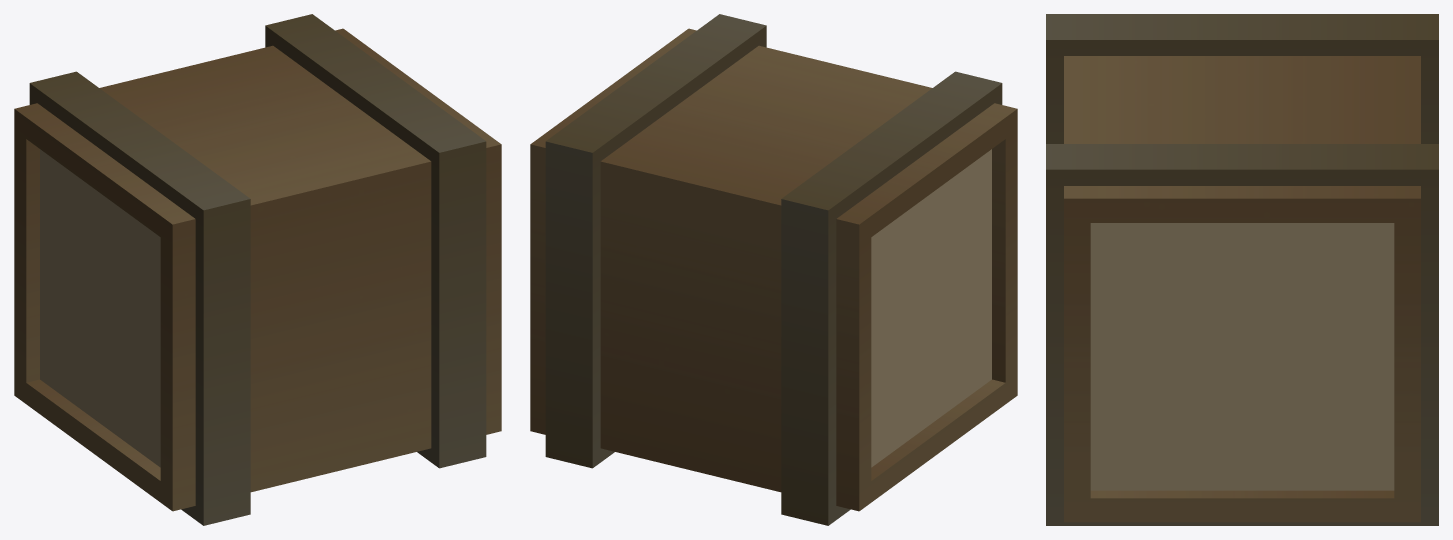
Rendered from Crate_2_LOD1.fbx.
3 renders of one model, left to right at view 1: azimuth 30°, elevation 25°; view 2: azimuth 150°, elevation 25°; view 3: azimuth 270°, elevation 25°, orthographic. The views are drawn at different scales.
Parts seen in each view (by area): view 1: polySurface9647; view 2: polySurface9647; view 3: polySurface9647.
Boxes of the visible parts, x1=… form: polySurface9647: x1=14, y1=14, x2=501, y2=525; polySurface9647: x1=530, y1=14, x2=1017, y2=525; polySurface9647: x1=1046, y1=14, x2=1438, y2=525.
Bounding box in the file's own units: 144 × 132 × 132.
